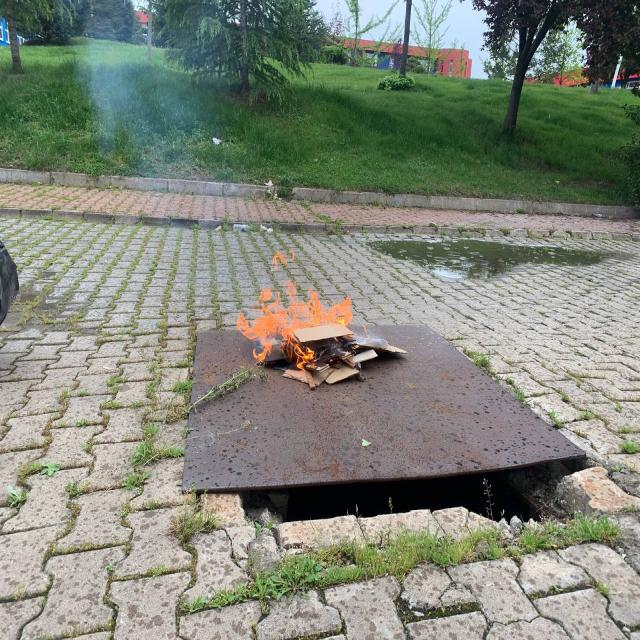fire: (228, 243, 356, 370)
